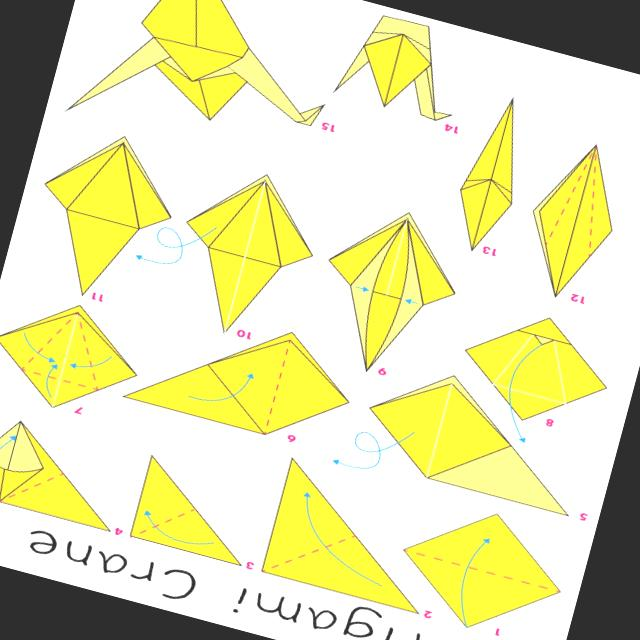arrow: (303, 492, 381, 585), (508, 343, 542, 441), (332, 431, 413, 468), (135, 226, 216, 263), (460, 537, 489, 625), (143, 510, 212, 544), (188, 373, 253, 400), (23, 331, 54, 362), (69, 355, 110, 367), (45, 363, 57, 397), (0, 435, 15, 448), (355, 285, 368, 291), (404, 298, 416, 303)
fold-line: (217, 178, 270, 336), (400, 546, 564, 596), (535, 147, 605, 249), (255, 530, 361, 575), (12, 309, 81, 376), (254, 337, 299, 438), (417, 382, 461, 482), (118, 500, 214, 542), (579, 148, 611, 265), (484, 330, 539, 390), (0, 468, 79, 507), (379, 217, 416, 298), (485, 374, 569, 406), (72, 315, 106, 394), (17, 364, 103, 394), (544, 335, 576, 408), (0, 463, 14, 504)
